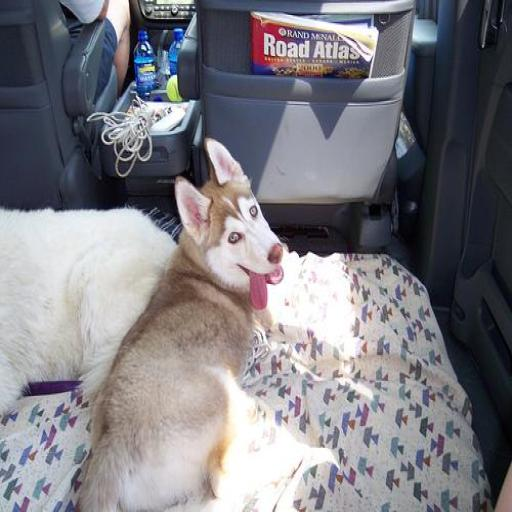dog_face: (172, 143, 290, 291)
